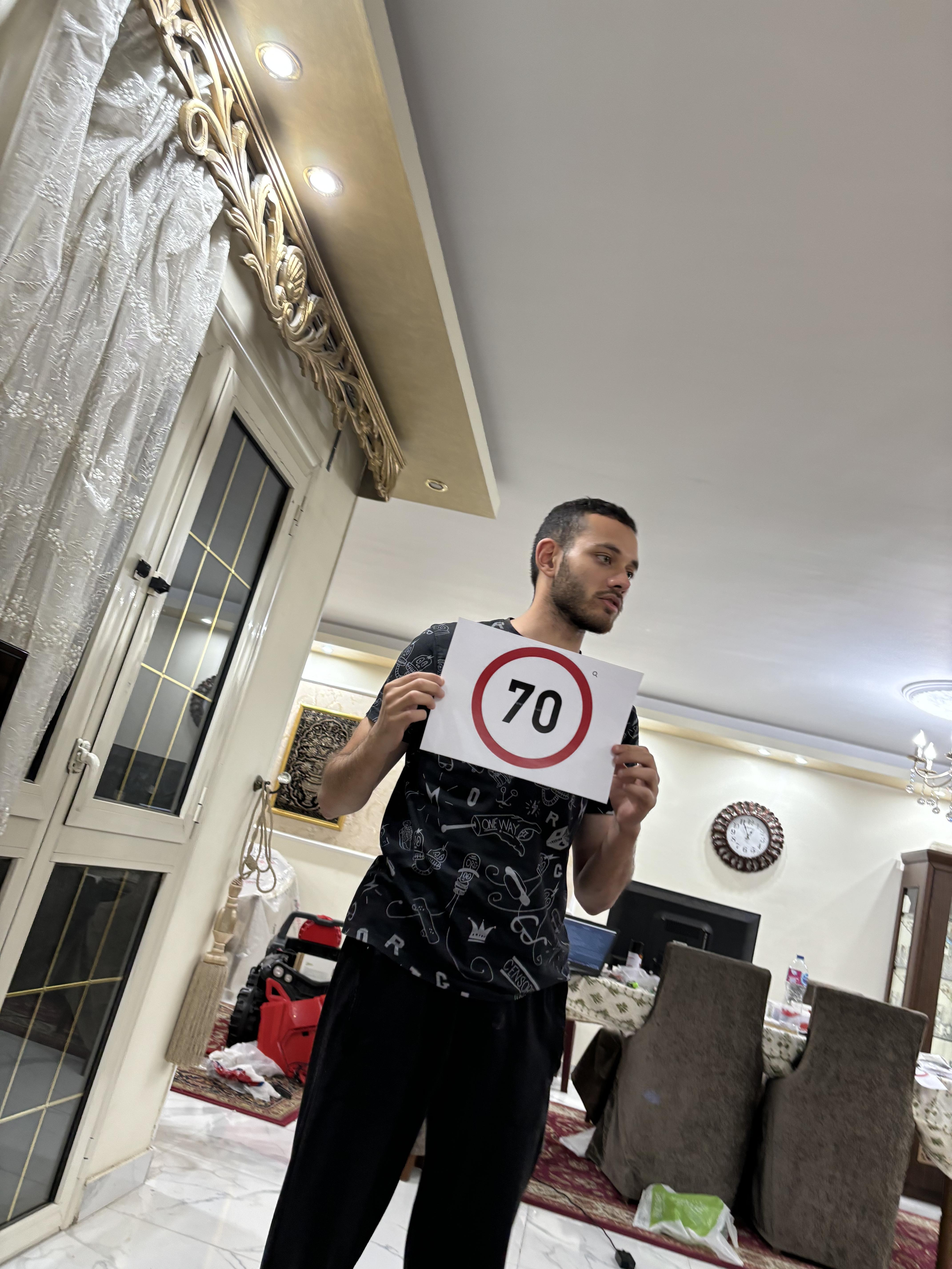70-Speed: (467, 642, 595, 769)
